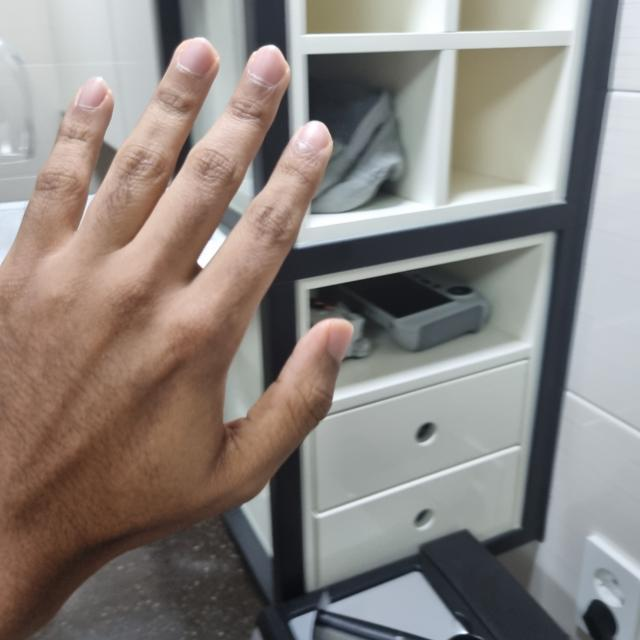Paper: (0, 36, 351, 548)
